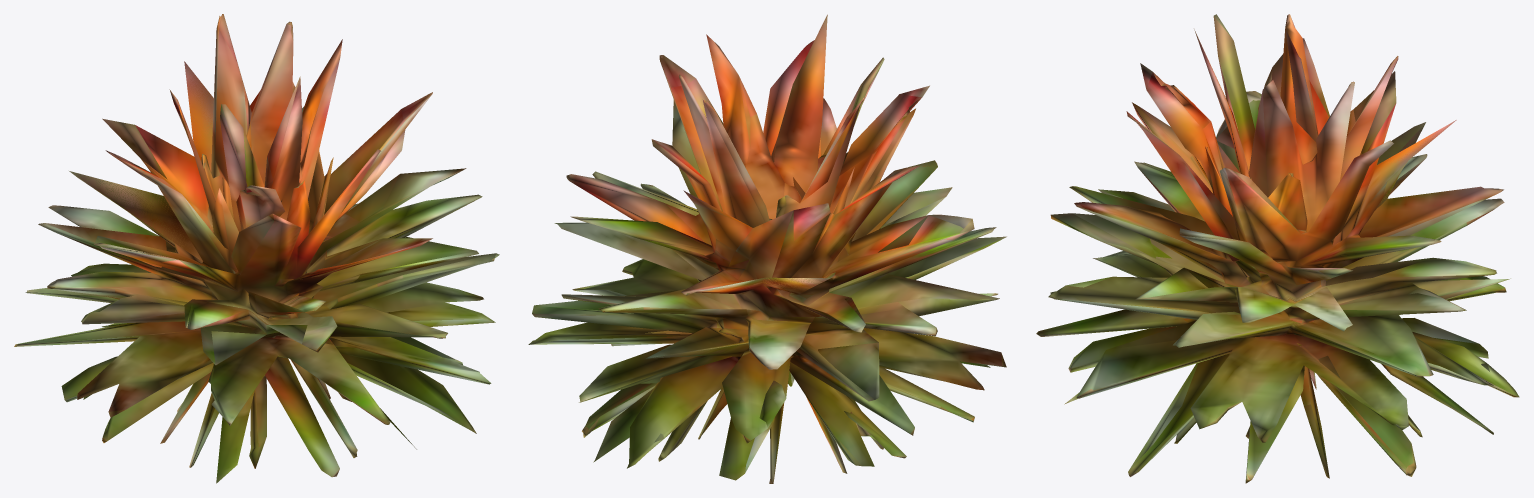
File: PRP_Pineapple_lod.glb
3 renders of one model, left to right at view 1: azimuth 30°, elevation 25°; view 2: azimuth 150°, elevation 25°; view 3: azimuth 270°, elevation 25°, orthographic.
Parts seen in each view (by area): view 1: Object_2; view 2: Object_2; view 3: Object_2.
Boxes of the visible parts, box(x1,y1,x2,y2) form: Object_2: box(14, 14, 499, 483); Object_2: box(528, 14, 1006, 483); Object_2: box(1036, 14, 1519, 483).
Bounding box in the file's own units: 0.2282 × 0.2091 × 0.2273.
Materials: 1 (1 with a texture image).
